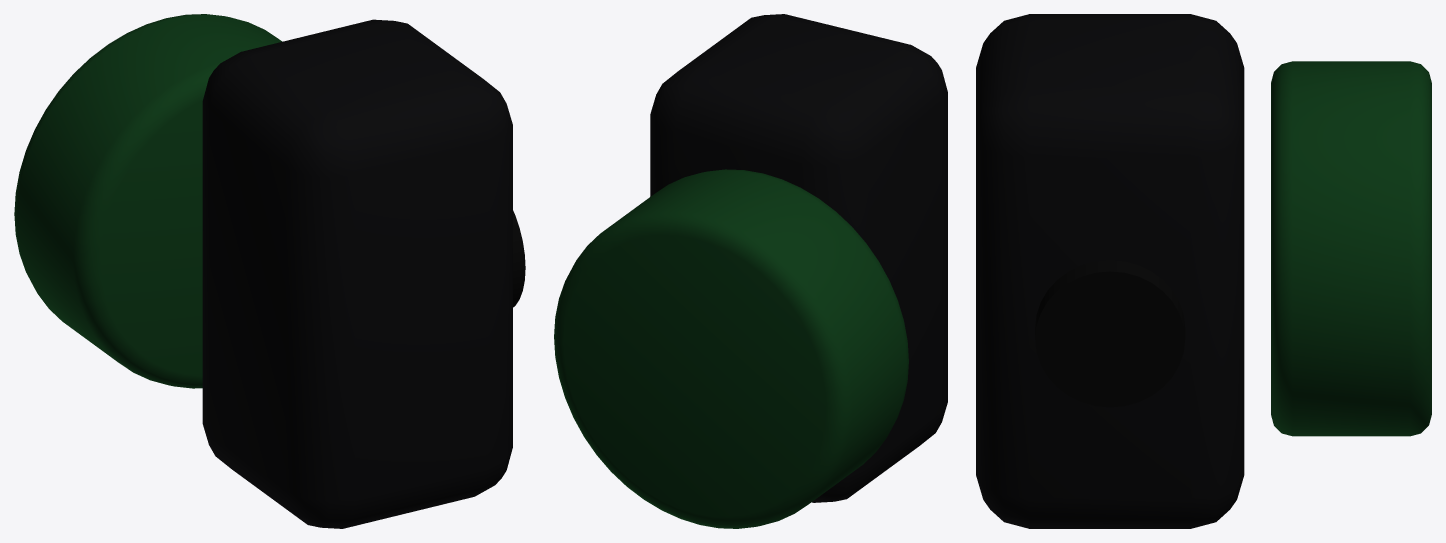
File: scout_head.obj
The picture shows the model from 3 angles, left to right: view 1: azimuth 30°, elevation 25°; view 2: azimuth 150°, elevation 25°; view 3: azimuth 270°, elevation 25°; orthographic projection. The views are drawn at different scales.
Visible parts, largest first — view 1: scout_cam, pan_base, scout_lens; view 2: pan_base, scout_cam; view 3: scout_cam, pan_base, scout_lens.
Boxes of the visible parts, x1,y1,x2,y2 form: scout_cam: (202,19,512,528); pan_base: (14,14,281,388); scout_lens: (513,210,525,307); pan_base: (554,169,908,528); scout_cam: (650,14,947,502); scout_cam: (976,14,1244,528); pan_base: (1271,61,1431,436); scout_lens: (1035,260,1185,407).
Bounding box in the file's own units: 0.075 × 0.09 × 0.085.
